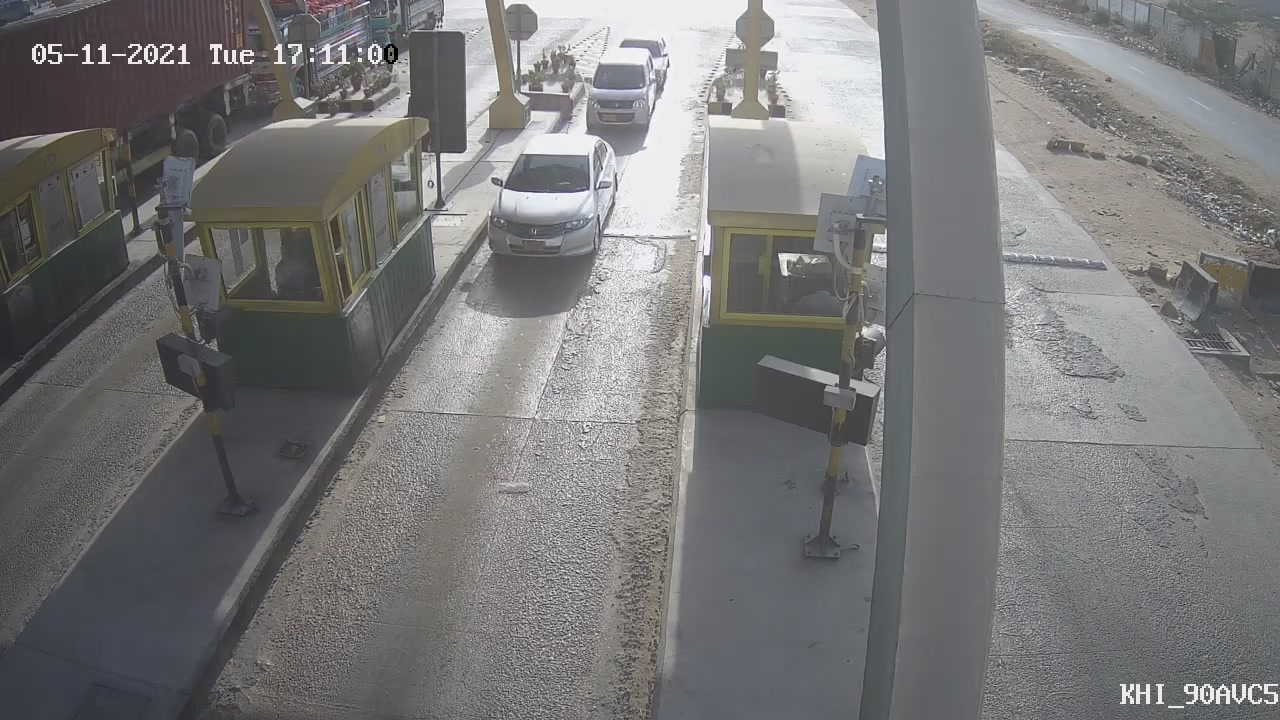F1: (468, 120, 637, 273), (568, 38, 677, 148)
